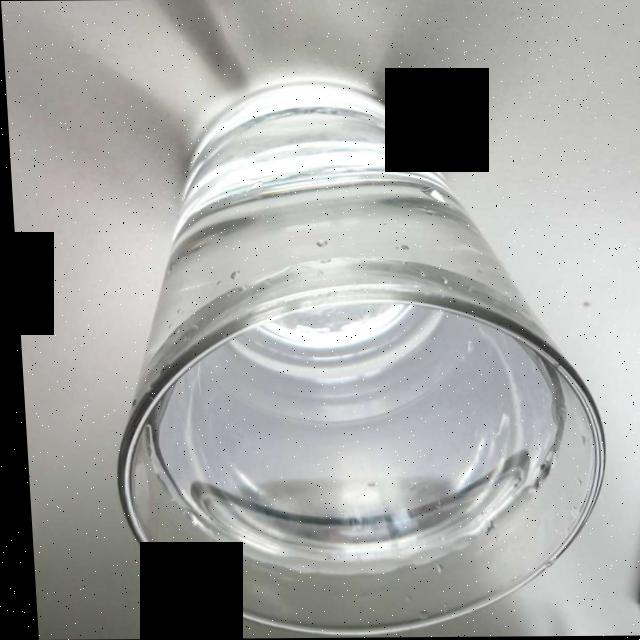water: (138, 305, 551, 570)
